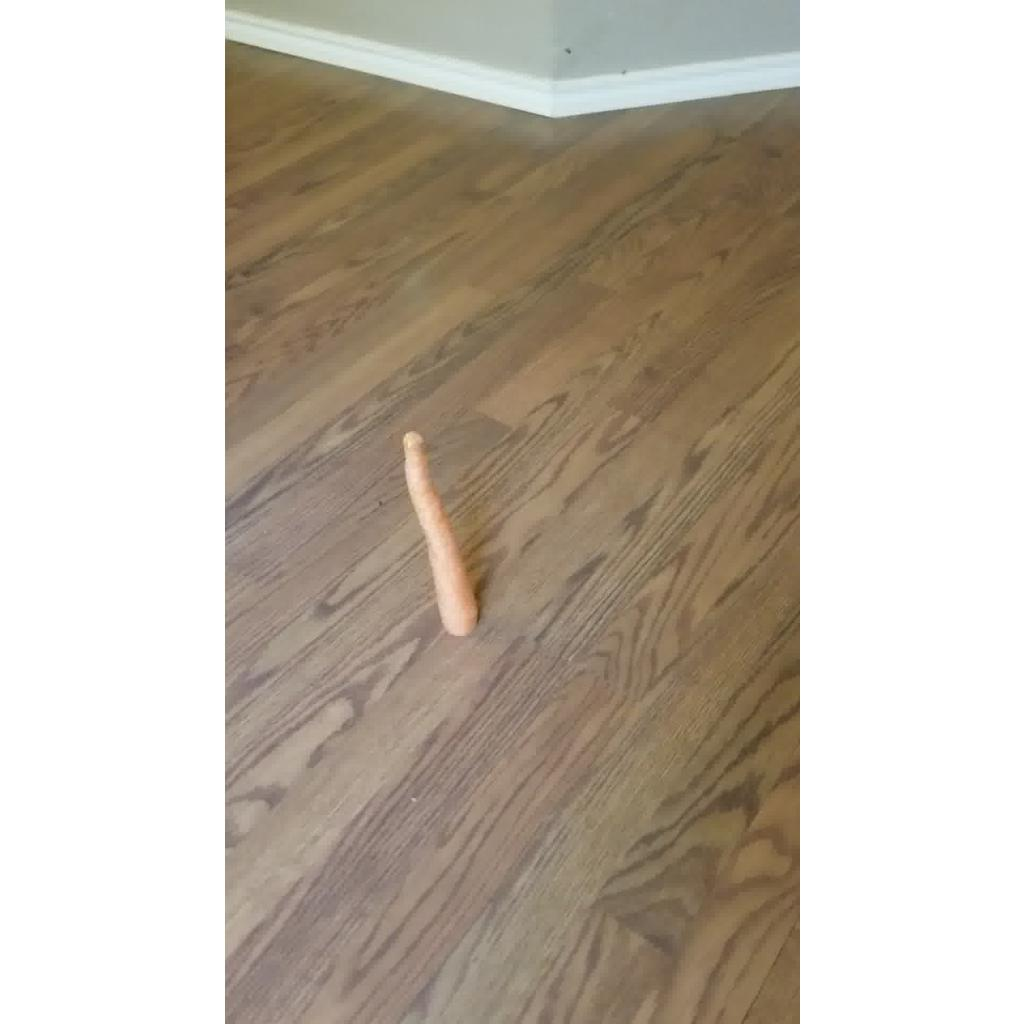carrot: (402, 432, 476, 636)
